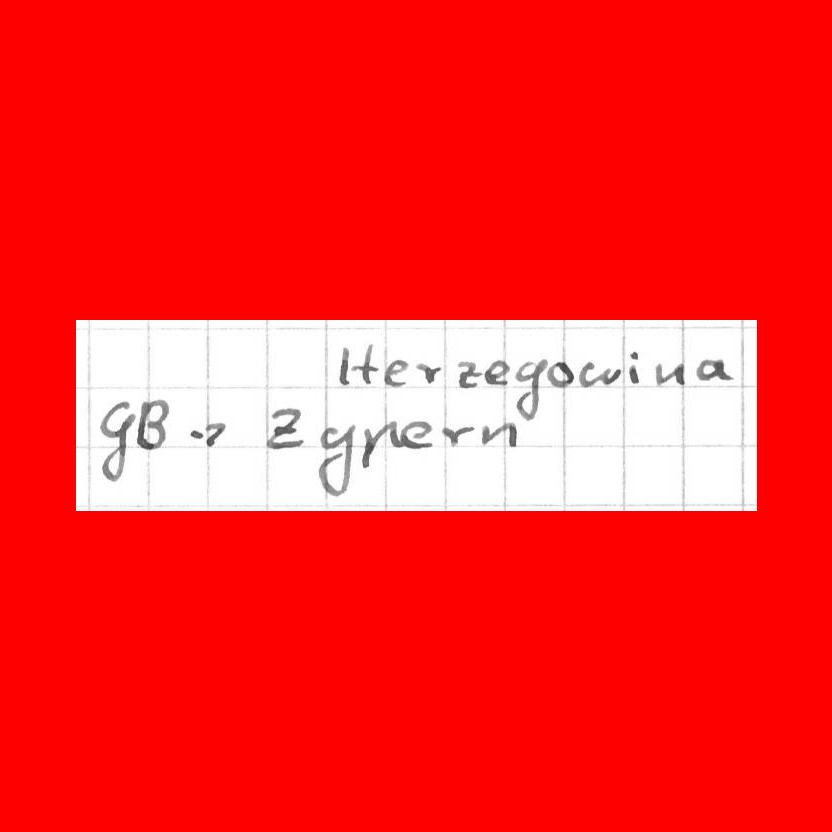Char: (95, 399, 137, 483), (315, 418, 355, 503), (513, 355, 545, 425), (264, 404, 304, 453), (357, 421, 397, 467), (137, 398, 169, 449), (579, 360, 619, 389), (478, 421, 518, 449), (188, 419, 225, 448), (353, 341, 376, 387), (695, 355, 731, 384), (401, 419, 434, 450), (654, 358, 684, 388), (383, 356, 409, 387), (483, 359, 511, 387), (442, 422, 473, 447), (547, 360, 574, 388), (335, 343, 352, 387), (455, 360, 480, 387), (416, 360, 442, 385), (625, 348, 642, 385)
